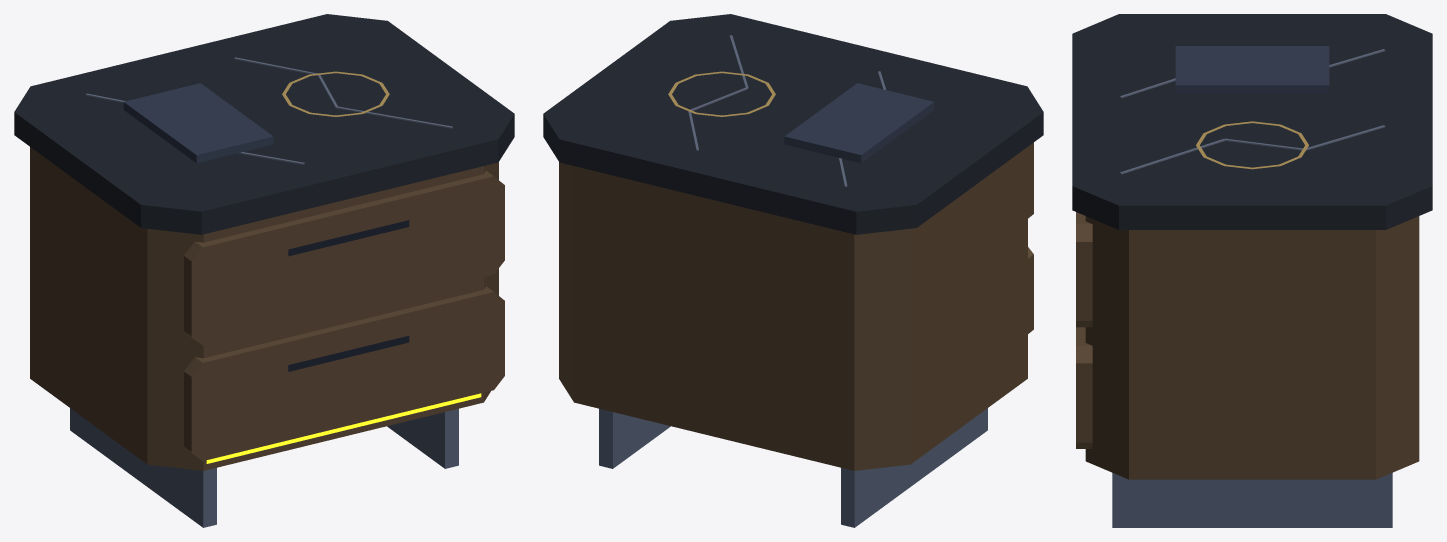
Rendered from res_nightstand.glb.
The picture shows the model from 3 angles, left to right: view 1: azimuth 30°, elevation 25°; view 2: azimuth 150°, elevation 25°; view 3: azimuth 270°, elevation 25°; orthographic projection. The views are drawn at different scales.
Visible parts, largest first — view 1: drawer_front, nightstand_top, nightstand_sled, resting_tablet, finger_pull, drawer_led, fine_stone_vein, wireless_charge_inlay; view 2: drawer_front, nightstand_top, nightstand_sled, resting_tablet, fine_stone_vein, wireless_charge_inlay; view 3: drawer_front, nightstand_top, nightstand_sled, resting_tablet, fine_stone_vein, wireless_charge_inlay.
Boxes of the visible parts, left/top/right/bottom form: drawer_front: left=30, top=147, right=504, bottom=470; nightstand_top: left=14, top=14, right=514, bottom=234; nightstand_sled: left=70, top=408, right=458, bottom=527; resting_tablet: left=123, top=83, right=273, bottom=163; finger_pull: left=288, top=220, right=409, bottom=371; drawer_led: left=206, top=393, right=481, bottom=463; fine_stone_vein: left=86, top=57, right=452, bottom=164; wireless_charge_inlay: left=282, top=71, right=389, bottom=116; drawer_front: left=559, top=142, right=1033, bottom=470; nightstand_top: left=543, top=14, right=1043, bottom=234; nightstand_sled: left=599, top=408, right=987, bottom=527; resting_tablet: left=784, top=83, right=934, bottom=163; fine_stone_vein: left=688, top=35, right=886, bottom=186; wireless_charge_inlay: left=668, top=71, right=775, bottom=116; drawer_front: left=1076, top=212, right=1419, bottom=479; nightstand_top: left=1072, top=14, right=1432, bottom=229; nightstand_sled: left=1112, top=473, right=1392, bottom=527; resting_tablet: left=1175, top=46, right=1329, bottom=93; fine_stone_vein: left=1119, top=49, right=1385, bottom=174; wireless_charge_inlay: left=1196, top=121, right=1308, bottom=169.
Bounding box in the file's own units: 0.68 × 0.6 × 0.54.
